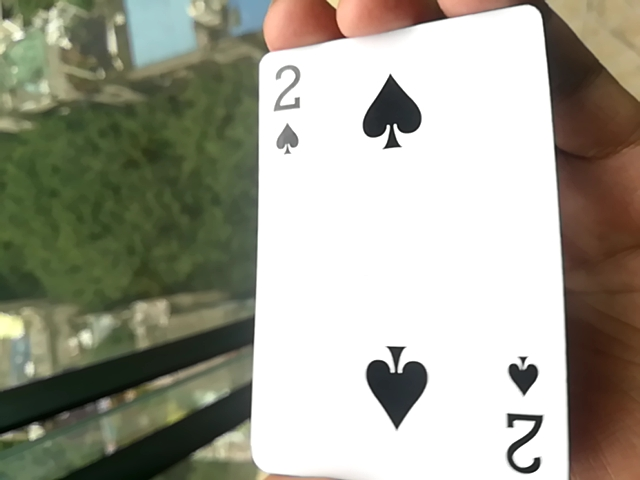ht 2: (242, 16, 579, 478)
